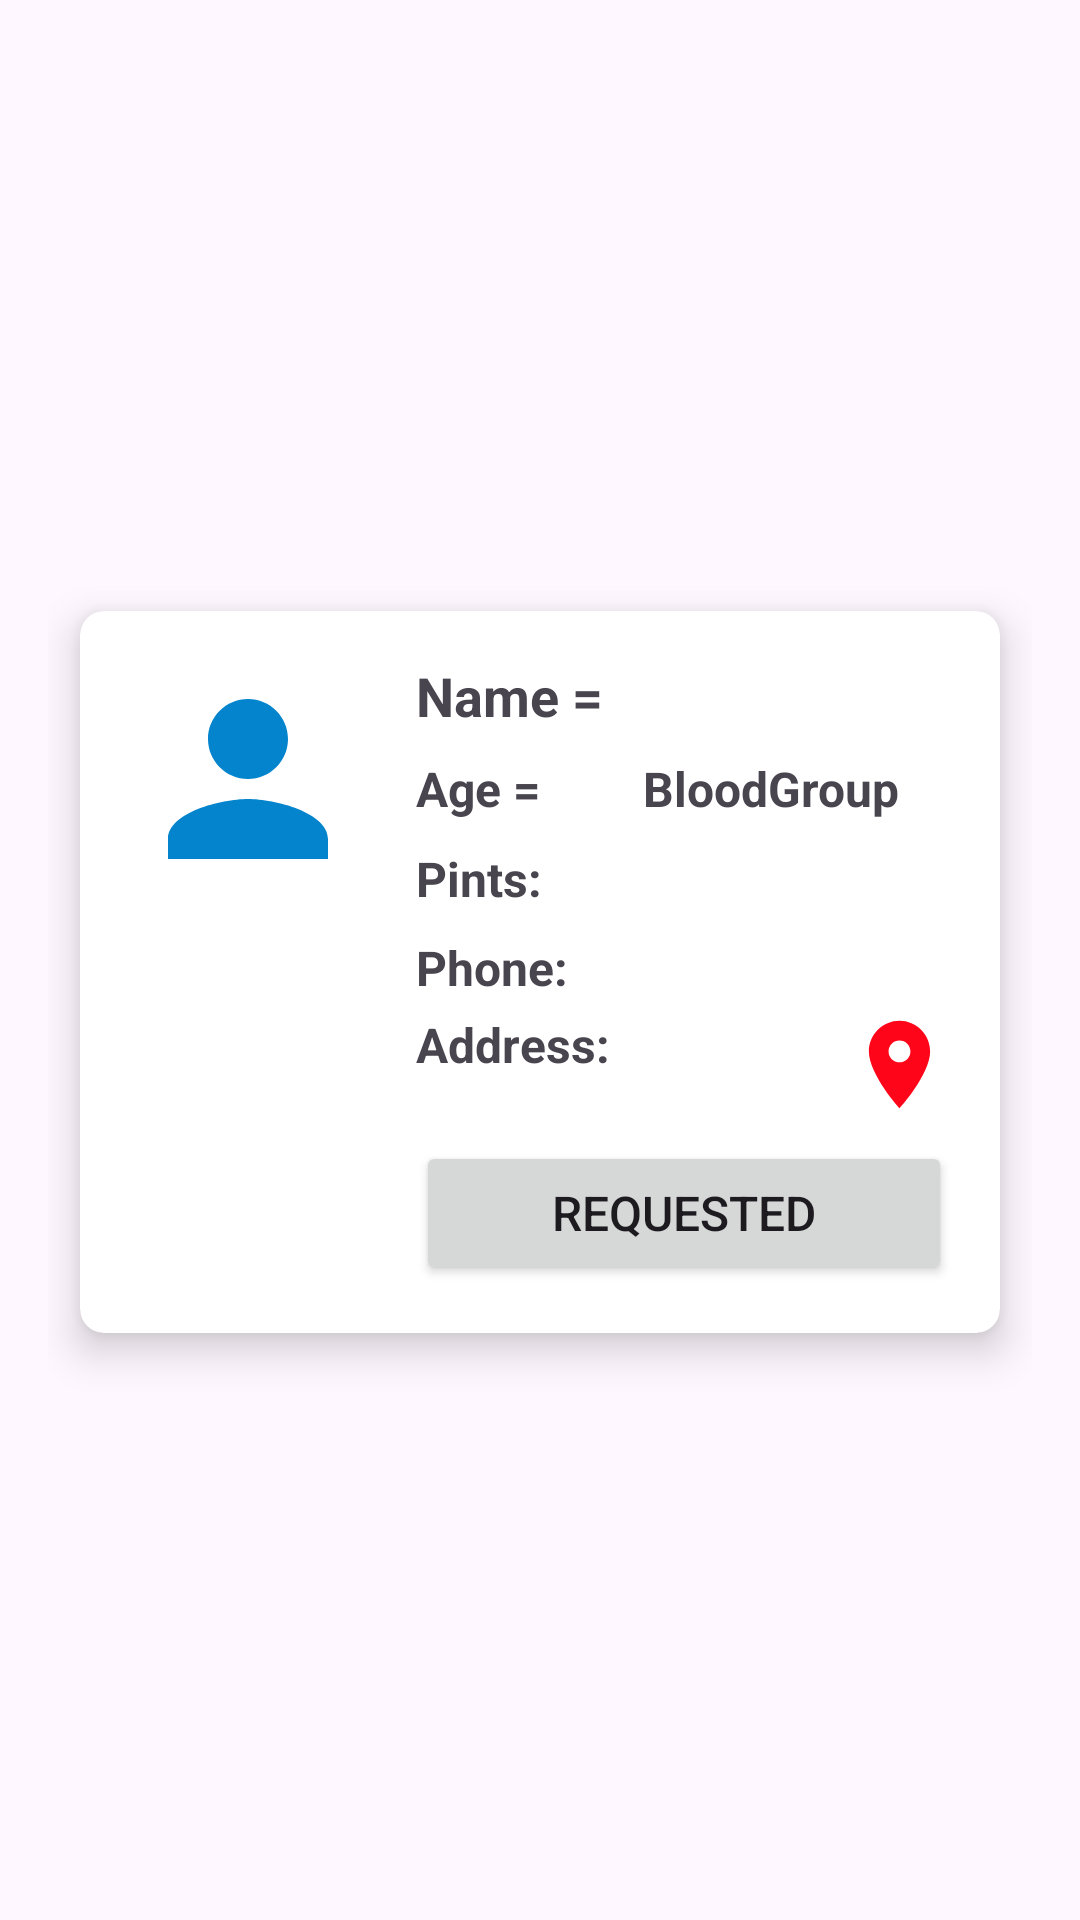

Where icons sit on this 1080px x 1920px app screen, as bbox(x1, y1, x2, y2):
location on: bbox(868, 1020, 931, 1108)
person: bbox(168, 699, 328, 859)
